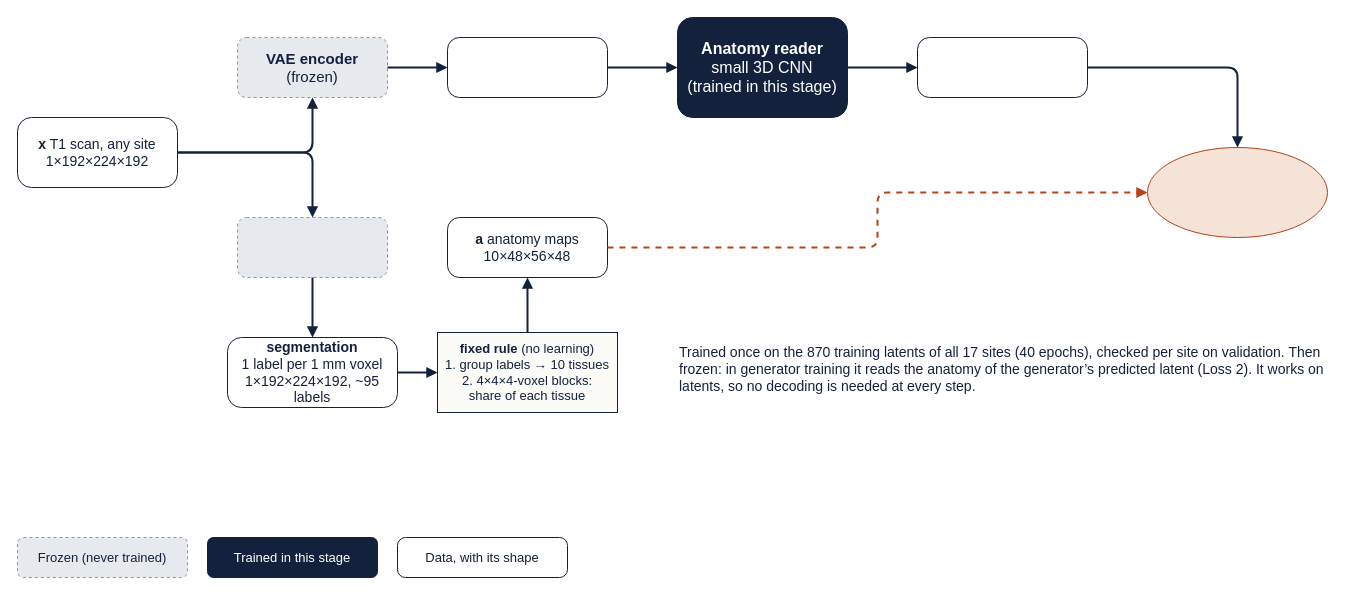
Image size: 1345x595. Some labels were removed from this diagram. Here are the shapes that lost their labels. From the top down, the centre of each, then its label:
the point at 527,67: z latent 4×48×56×48
the point at 1002,67: â predicted shares 10×48×56×48
the point at 1237,192: Loss soft cross-entropy â vs a
the point at 312,247: FastSurfer (frozen)
